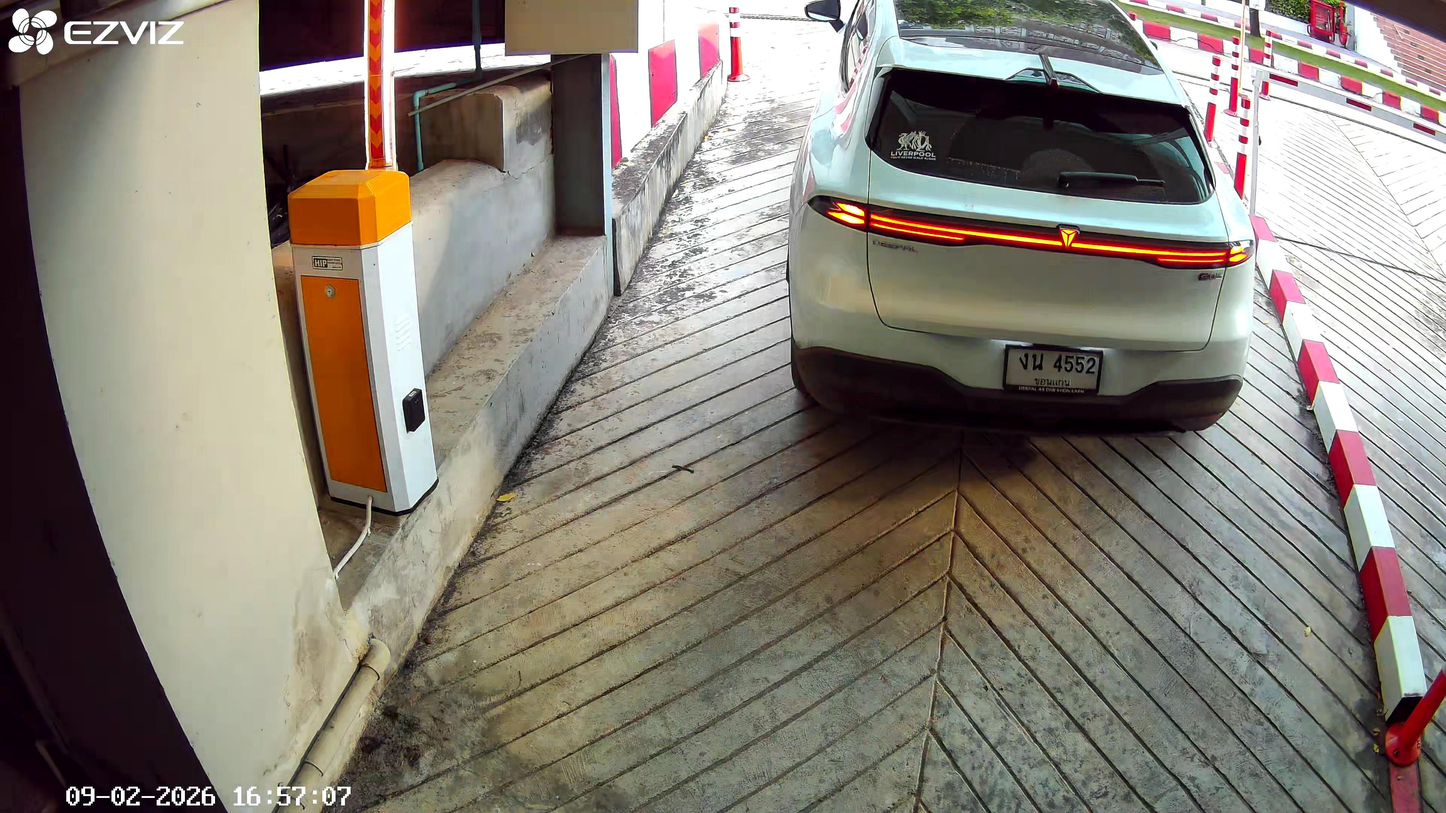car: (784, 11, 1261, 443)
license-plate: (999, 340, 1105, 396)
